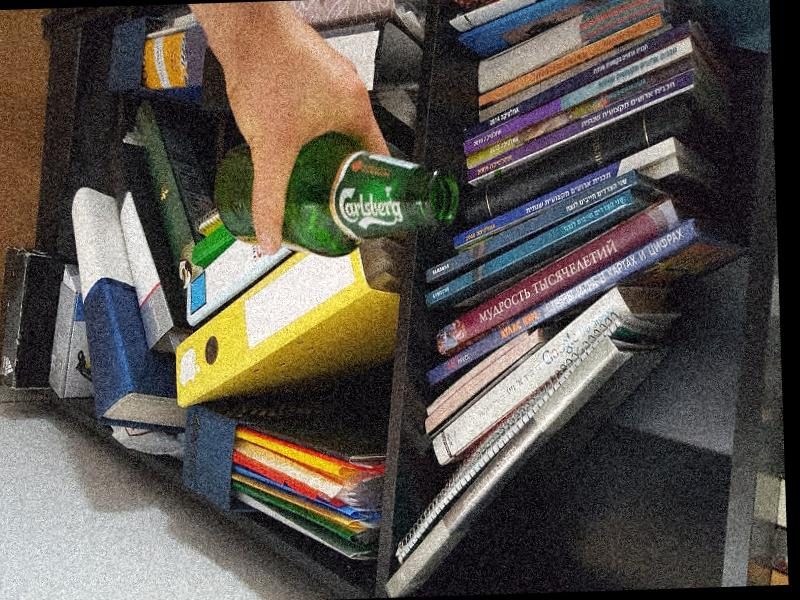Beer: (210, 132, 459, 259)
